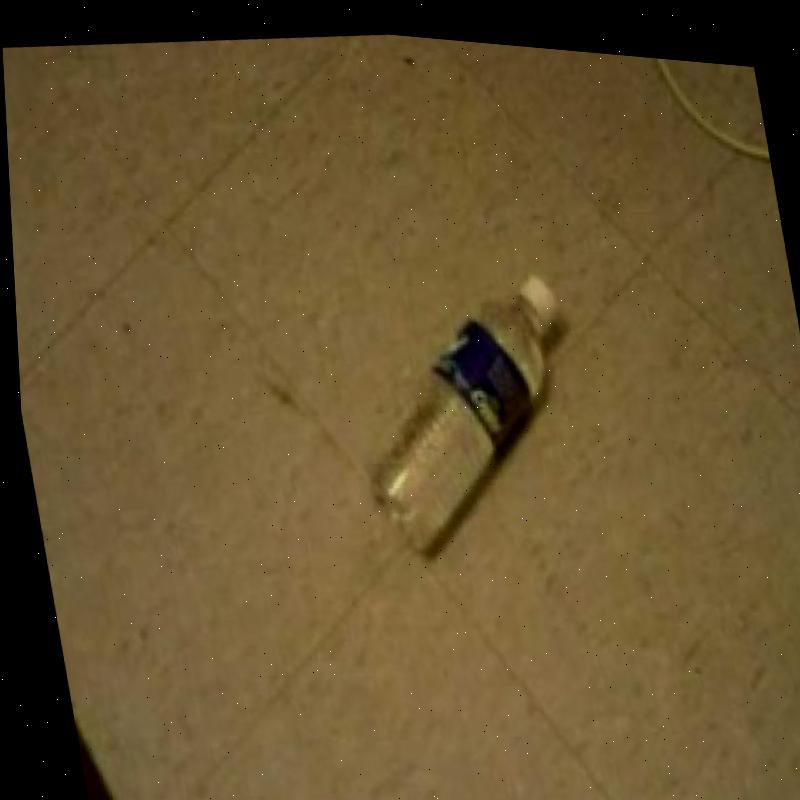botella: (332, 246, 598, 564)
